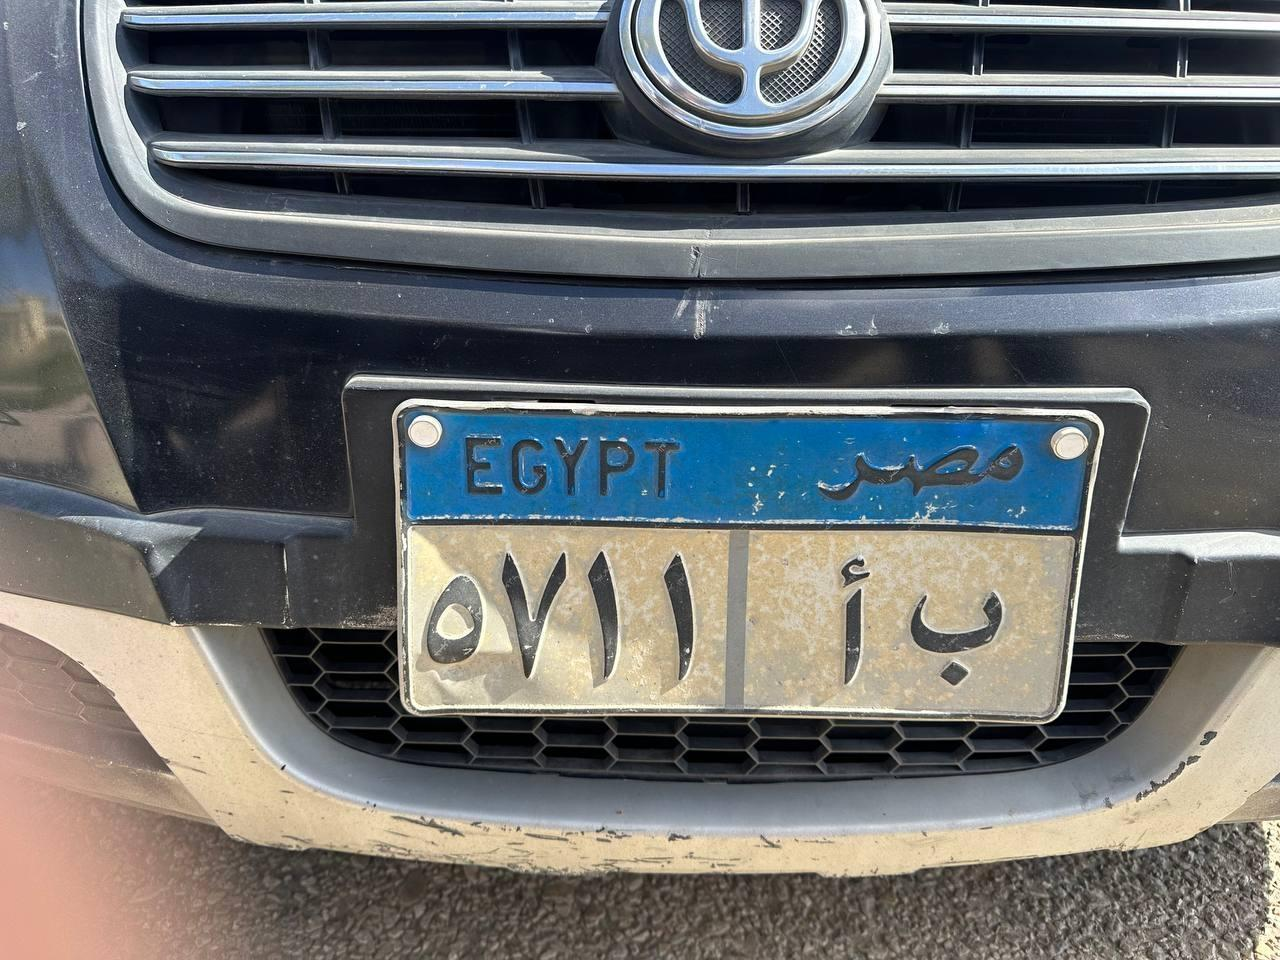1: (654, 545, 708, 700), (585, 538, 630, 684)
5: (421, 570, 485, 672)
7: (495, 538, 574, 680)
License Plate: (388, 399, 1086, 730)
alef: (838, 546, 874, 694)
baa: (909, 582, 1009, 696)
